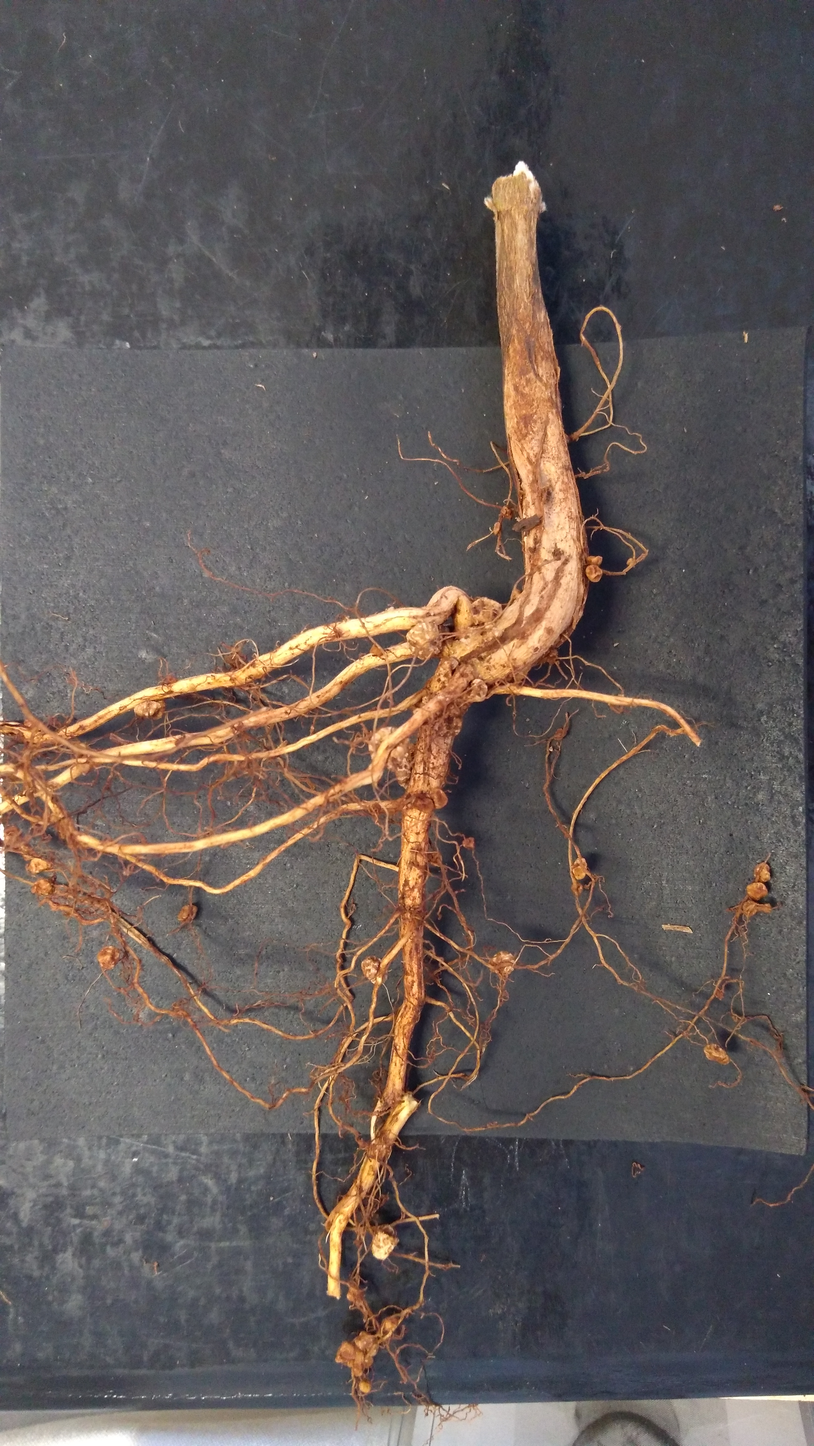nodule: (363, 725, 416, 792), (403, 619, 444, 665), (367, 1228, 404, 1264), (468, 594, 505, 623), (360, 954, 390, 986), (351, 1326, 381, 1358), (329, 1338, 359, 1370), (94, 943, 124, 973), (133, 699, 169, 721), (702, 1043, 731, 1067), (489, 950, 517, 974), (30, 877, 59, 899), (176, 902, 202, 926), (468, 676, 490, 703), (429, 786, 449, 812), (412, 795, 437, 815), (583, 563, 606, 584), (27, 856, 48, 876), (381, 1316, 401, 1332), (585, 554, 606, 569), (349, 1362, 367, 1379), (461, 835, 478, 852), (498, 504, 514, 522), (358, 1379, 373, 1394), (508, 587, 522, 601), (492, 521, 503, 536), (46, 860, 56, 872), (624, 556, 634, 566)
